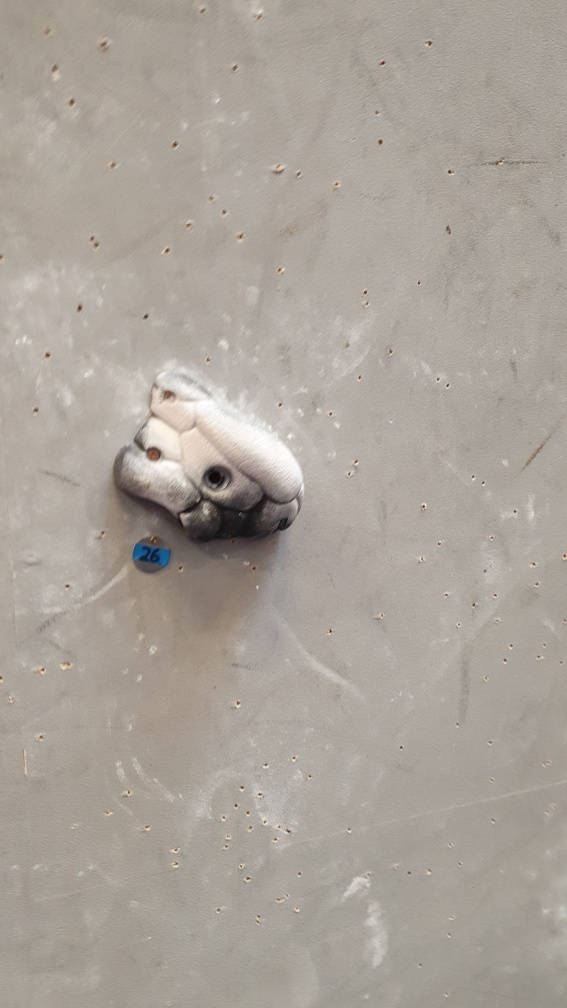Hand Start: (131, 532, 174, 577)
Jug: (110, 363, 305, 543)
